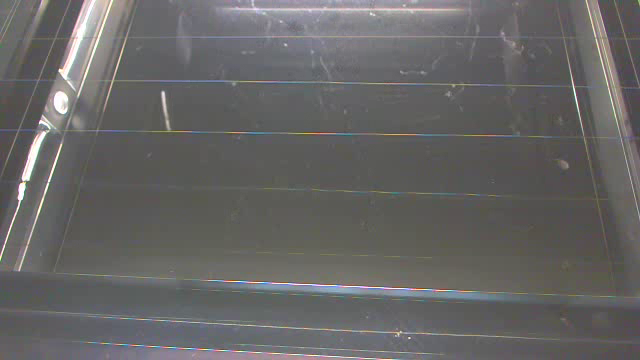Alfa: (153, 82, 178, 134)
